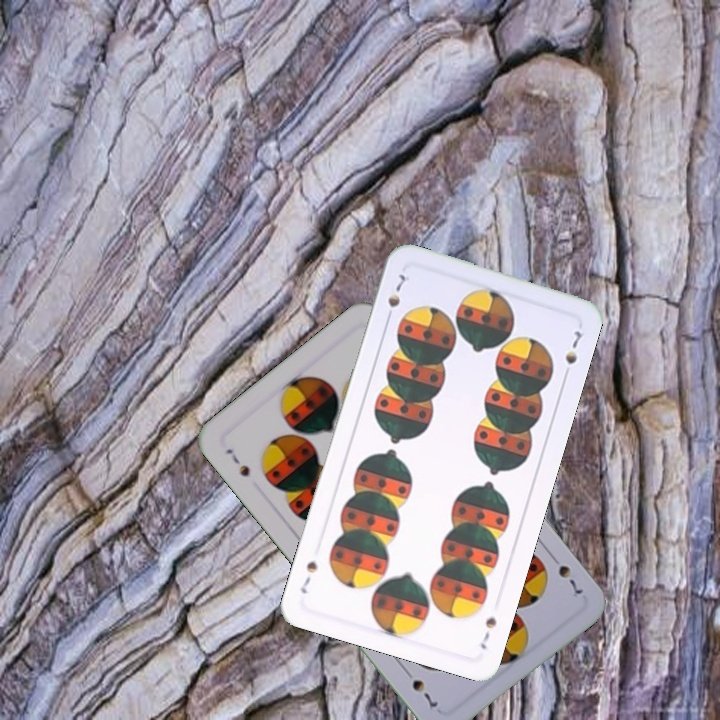S7: (545, 549, 586, 600), (382, 269, 408, 324), (222, 444, 253, 480), (476, 613, 499, 652)
